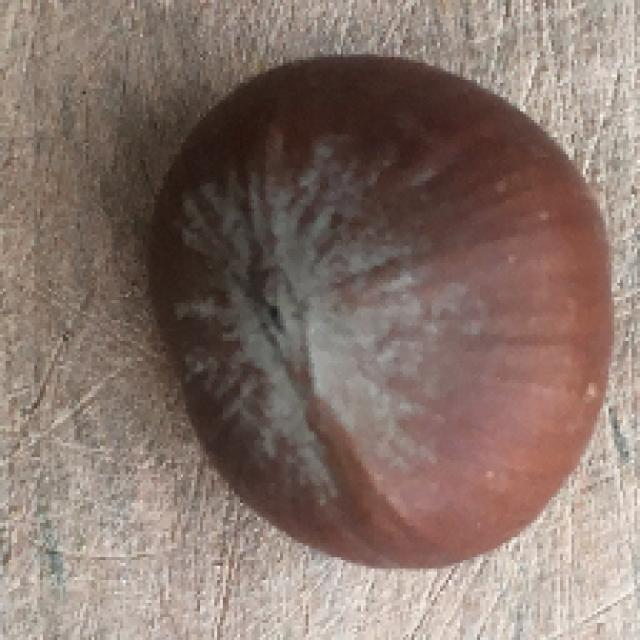qualityHazelnut: (163, 44, 612, 578)
